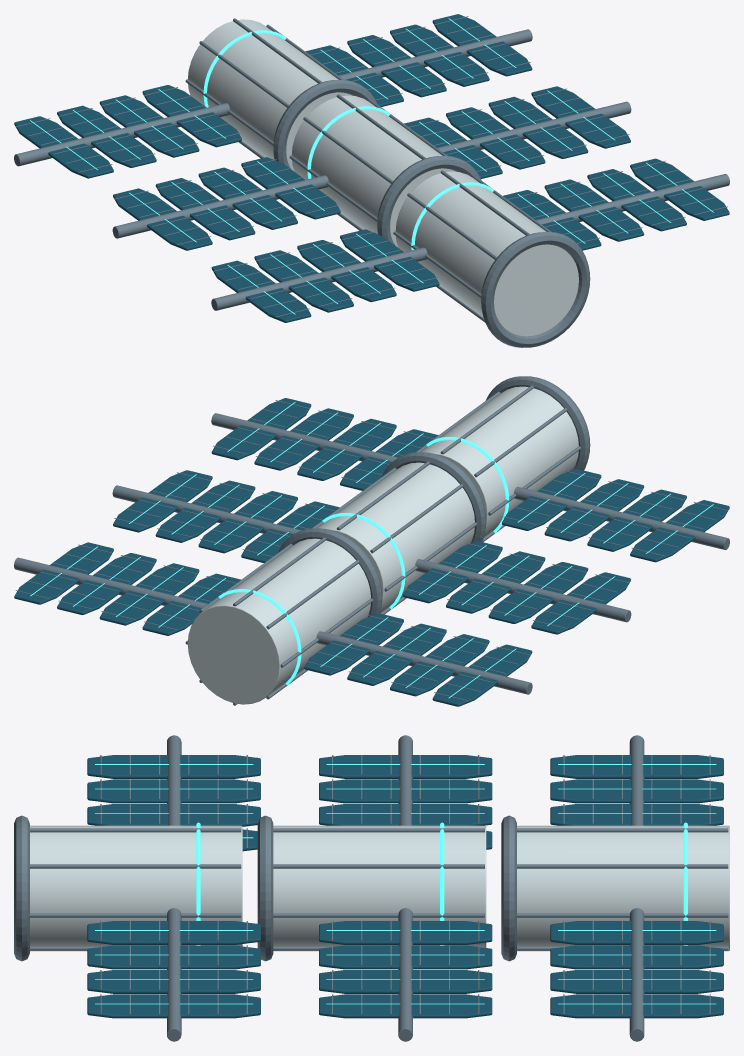
The model's file is OrbitHabitat.fbx.
The picture shows the model from 3 angles, top to bottom: view 1: azimuth 30°, elevation 25°; view 2: azimuth 150°, elevation 25°; view 3: azimuth 270°, elevation 25°; orthographic projection. The views are drawn at different scales.
Parts seen in each view (by area): view 1: Pressure compartment.006, Pressure compartment.007, Pressure compartment.008, Docking frame.006, Photovoltaic tile.056, Photovoltaic tile.059, Photovoltaic tile.065, Photovoltaic tile.071, Photovoltaic tile.062, Photovoltaic tile.050, Photovoltaic tile.052, Photovoltaic tile.058 (+24 smaller); view 2: Pressure compartment.008, Pressure compartment.007, Pressure compartment.006, Photovoltaic tile.049, Photovoltaic tile.051, Photovoltaic tile.070, Photovoltaic tile.056, Photovoltaic tile.058, Photovoltaic tile.048, Photovoltaic tile.061, Photovoltaic tile.069, Photovoltaic tile.053 (+27 smaller); view 3: Pressure compartment.006, Pressure compartment.007, Pressure compartment.008, Photovoltaic tile.054, Photovoltaic tile.050, Photovoltaic tile.063, Photovoltaic tile.065, Photovoltaic tile.067, Photovoltaic tile.058, Photovoltaic tile.071, Photovoltaic tile.061, Photovoltaic tile.069 (+30 smaller).
Boxes of the visible parts, x1=… form: Pressure compartment.006: x1=395, y1=171, x2=578, y2=336; Pressure compartment.007: x1=291, y1=95, x2=456, y2=247; Pressure compartment.008: x1=188, y1=19, x2=352, y2=171; Docking frame.006: x1=481, y1=232, x2=590, y2=347; Photovoltaic tile.056: x1=142, y1=85, x2=241, y2=147; Photovoltaic tile.059: x1=14, y1=116, x2=113, y2=178; Photovoltaic tile.065: x1=446, y1=107, x2=545, y2=169; Photovoltaic tile.071: x1=432, y1=14, x2=532, y2=76; Photovoltaic tile.062: x1=587, y1=169, x2=686, y2=231; Photovoltaic tile.050: x1=254, y1=250, x2=353, y2=312; Photovoltaic tile.052: x1=241, y1=157, x2=340, y2=219; Photovoltaic tile.058: x1=57, y1=105, x2=156, y2=167; Pressure compartment.008: x1=187, y1=538, x2=370, y2=704; Pressure compartment.007: x1=317, y1=462, x2=474, y2=613; Pressure compartment.006: x1=421, y1=386, x2=578, y2=537; Photovoltaic tile.049: x1=544, y1=479, x2=644, y2=541; Photovoltaic tile.051: x1=630, y1=500, x2=729, y2=562; Photovoltaic tile.070: x1=57, y1=553, x2=156, y2=614; Photovoltaic tile.056: x1=304, y1=613, x2=403, y2=675; Photovoltaic tile.058: x1=390, y1=634, x2=489, y2=696; Photovoltaic tile.048: x1=502, y1=468, x2=601, y2=530; Photovoltaic tile.061: x1=297, y1=418, x2=396, y2=480; Photovoltaic tile.069: x1=99, y1=563, x2=199, y2=625; Photovoltaic tile.053: x1=446, y1=551, x2=545, y2=613; Pressure compartment.006: x1=30, y1=825, x2=242, y2=951; Pressure compartment.007: x1=273, y1=825, x2=486, y2=951; Pressure compartment.008: x1=517, y1=825, x2=729, y2=951; Photovoltaic tile.054: x1=319, y1=779, x2=492, y2=803; Photovoltaic tile.050: x1=87, y1=779, x2=260, y2=803; Photovoltaic tile.063: x1=87, y1=994, x2=260, y2=1018; Photovoltaic tile.065: x1=319, y1=945, x2=492, y2=969; Photovoltaic tile.067: x1=319, y1=994, x2=492, y2=1018; Photovoltaic tile.058: x1=550, y1=779, x2=723, y2=803; Photovoltaic tile.071: x1=550, y1=994, x2=723, y2=1018; Photovoltaic tile.061: x1=87, y1=945, x2=260, y2=969; Photovoltaic tile.069: x1=550, y1=945, x2=723, y2=969.
Size of the model in its own units: 1140 by 240 by 1176.
